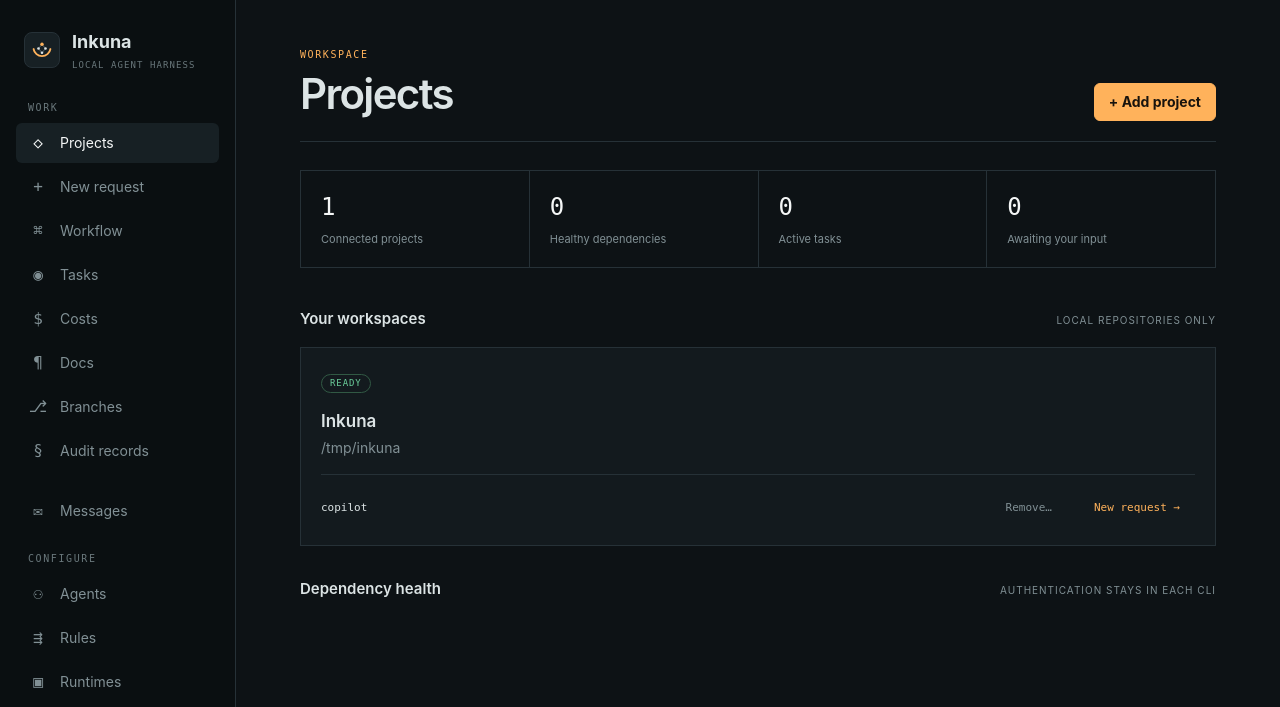
Scenario: Inkuna desktop flows › extension screens › lists and opens a screen whose capability Go reports
Check: the text "Audit screen" is not shown
Click the button "§ Audit records" at (118, 451), box [16, 431, 219, 471]
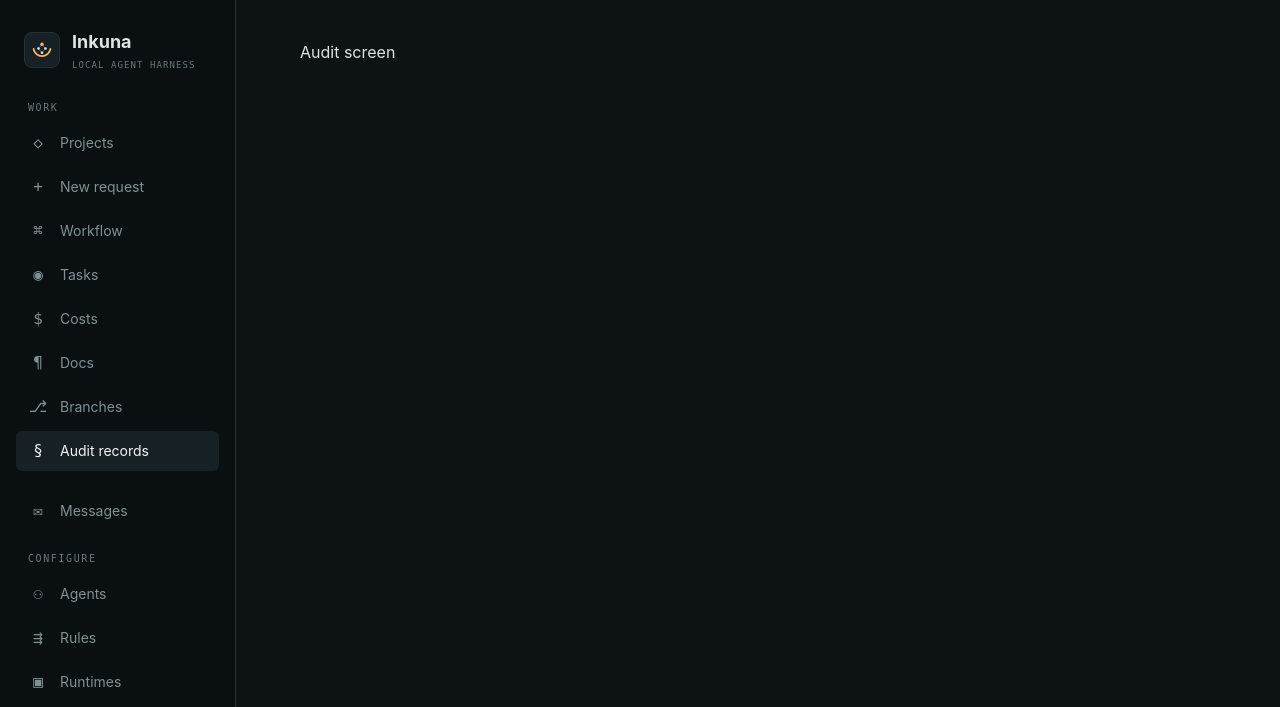
Check: the text "Audit screen" is shown, box [300, 42, 395, 62]
Click the button "◉ Tasks" at (118, 275), box [16, 255, 219, 295]
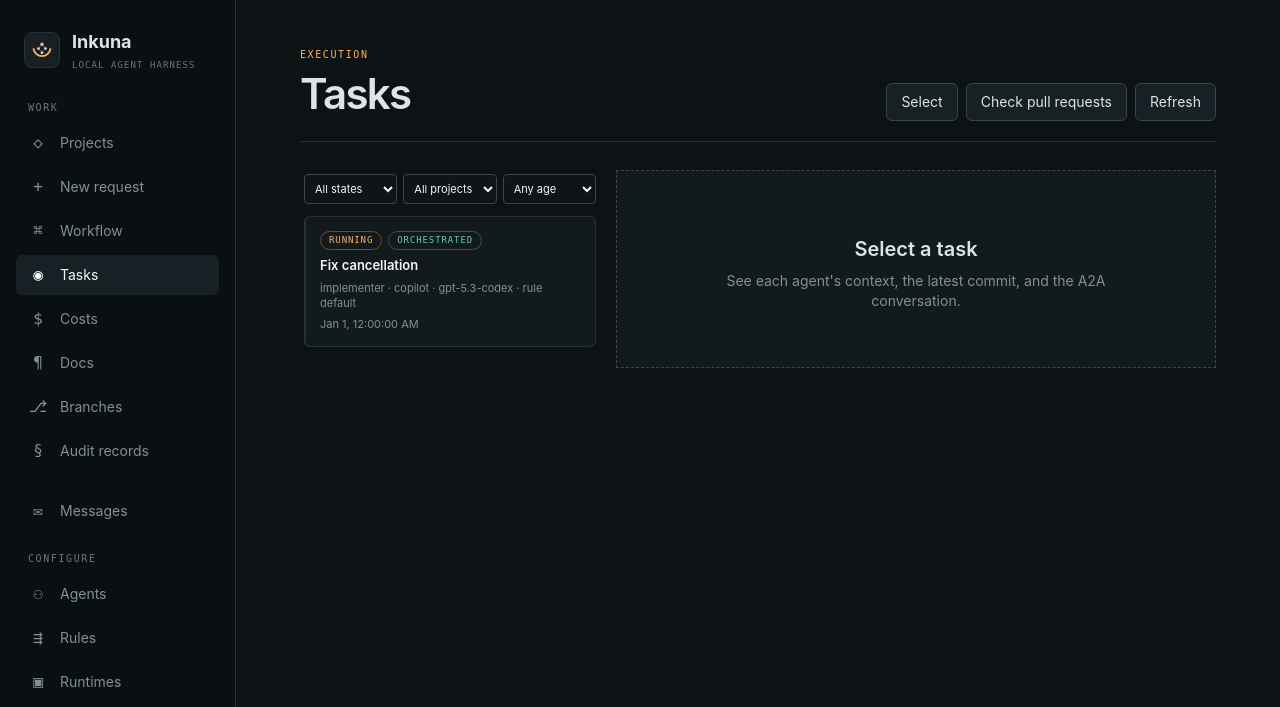
Check: the text "Audit screen" is gone
